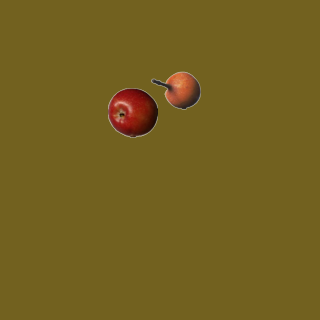Apple Braeburn: (107, 87, 157, 137)
Granadilla: (150, 65, 200, 115)
